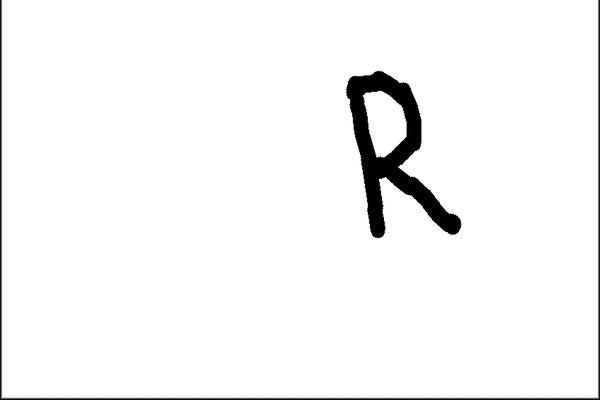R: (333, 61, 477, 239)
